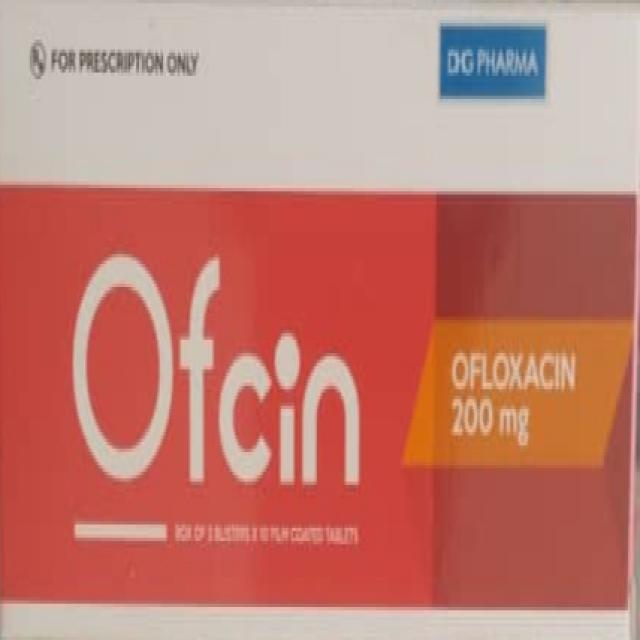drug-name: (62, 248, 366, 490)
